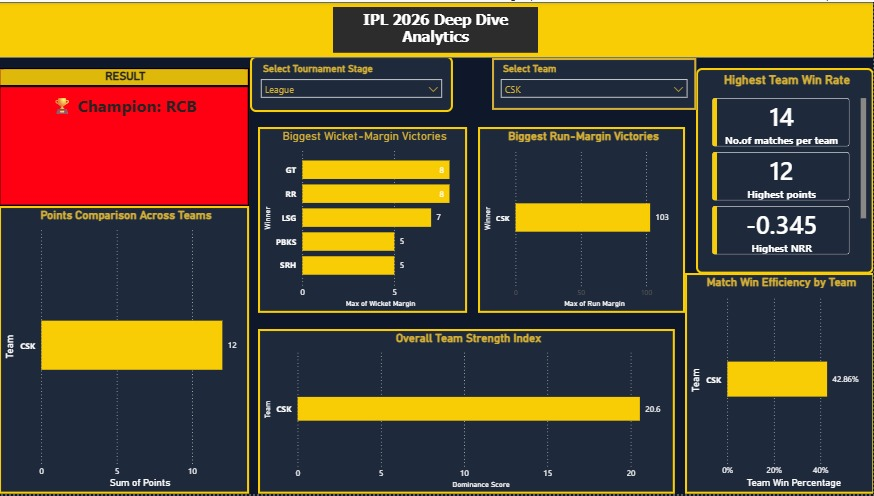

What the dashboard file says about the page in this screenshot:
{"tool":"powerbi","page":{"name":"Team Performance Overview","canvas":[1280,720],"ordinal":0},"visuals":[{"type":"cardVisual","title":"Highest Team Win Rate","fields":{"Data":["Max(ipl_2026_points_table2.Matches)","Max(ipl_2026_points_table2.Points)","Max(ipl_2026_points_table2.NRR)","ipl_2026_points_table2.Highest Win Percentage"]},"box":[1020,96.6,260.5,301.5],"z":0},{"type":"textbox","title":"RESULT","box":[0,96.6,365.9,202],"z":1000},{"type":"clusteredBarChart","title":"Points Comparison Across Teams","fields":{"Category":["ipl_2026_points_table2.Team"],"Y":["Sum(ipl_2026_points_table2.Points)"]},"box":[0,298.5,365.9,421.5],"z":2000},{"type":"clusteredBarChart","title":"Match Win Efficiency by Team","fields":{"Category":["ipl_2026_points_table2.Team"],"Y":["ipl_2026_points_table2.Team Win Percentage"]},"box":[1003.9,396.6,276.6,323.4],"z":3000},{"type":"clusteredBarChart","title":"Overall Team Strength Index","fields":{"Category":["ipl_2026_points_table2.Team"],"Y":["ipl_2026_points_table2.Dominance Score"]},"box":[379,478.5,610.2,241.5],"z":4000},{"type":"slicer","fields":{"Values":["ipl_2026_points_table2.Team"]},"box":[721.5,82,298.5,76.1],"z":5000},{"type":"slicer","fields":{"Values":["ipl_matches.Stage"]},"box":[367.3,79,297.1,82],"z":6000},{"type":"shape","box":[0,0,1280.5,82],"z":7000},{"type":"textbox","box":[488.8,7.3,300,67.3],"z":8000},{"type":"clusteredBarChart","title":"Biggest Run-Margin Victories","fields":{"Category":["ipl_matches.Winner"],"Y":["Max(ipl_matches.Run Margin)"]},"box":[701,182.9,302.9,272.2],"z":9000},{"type":"clusteredBarChart","title":"Biggest Wicket-Margin Victories","fields":{"Category":["ipl_matches.Winner"],"Y":["Max(ipl_matches.Wicket Margin)"]},"box":[379,182.9,305.9,272.2],"z":10000}]}

Visuals, with their boxes in screenshot pixels (x1, y1, x2, y2), scaled from the page's 1280x720 canvas onto the 874x496 screenshot:
"Highest Team Win Rate" cardVisual: 696:67:873:274
"RESULT" textbox: 0:67:250:206
"Points Comparison Across Teams" clusteredBarChart: 0:206:250:495
"Match Win Efficiency by Team" clusteredBarChart: 685:273:873:495
"Overall Team Strength Index" clusteredBarChart: 259:330:675:495
slicer - ipl_2026_points_table2.Team: 493:56:696:109
slicer - ipl_matches.Stage: 251:54:454:111
shape: 0:0:873:56
textbox: 334:5:539:51
"Biggest Run-Margin Victories" clusteredBarChart: 479:126:685:314
"Biggest Wicket-Margin Victories" clusteredBarChart: 259:126:468:314
